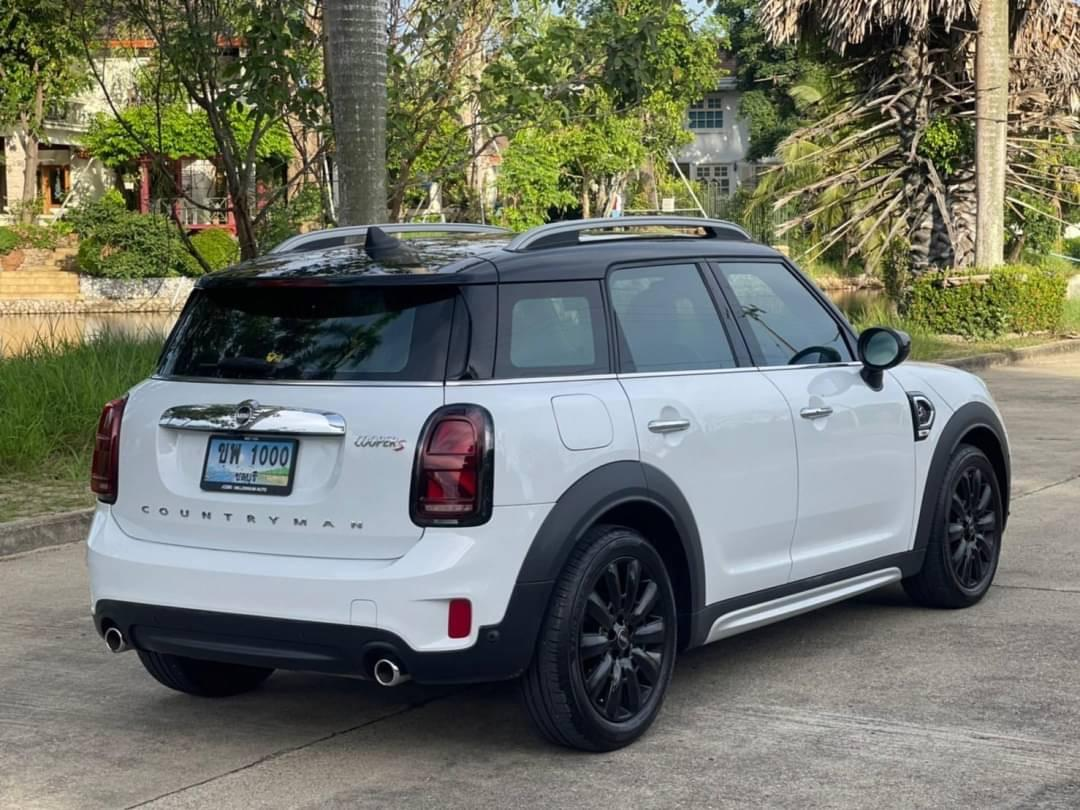license-plate: (200, 434, 301, 493)
